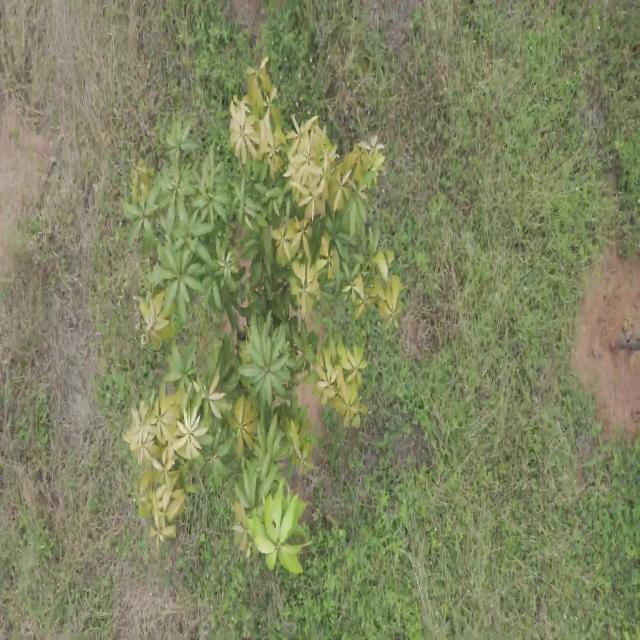mangoTree: (122, 55, 407, 571)
